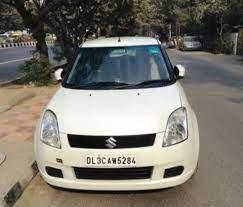Hatchback: (34, 34, 198, 191), (181, 36, 203, 50)
